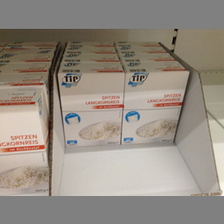rice: (123, 61, 191, 146), (58, 64, 125, 147), (1, 88, 51, 194)
